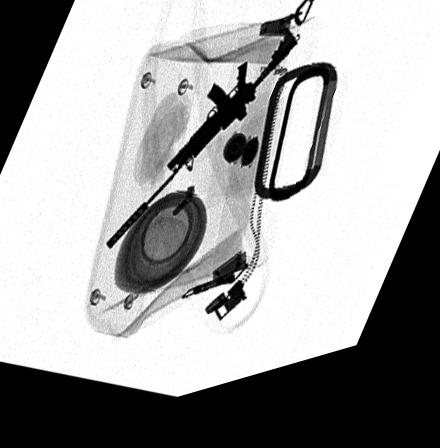Gun: (105, 40, 299, 256)
